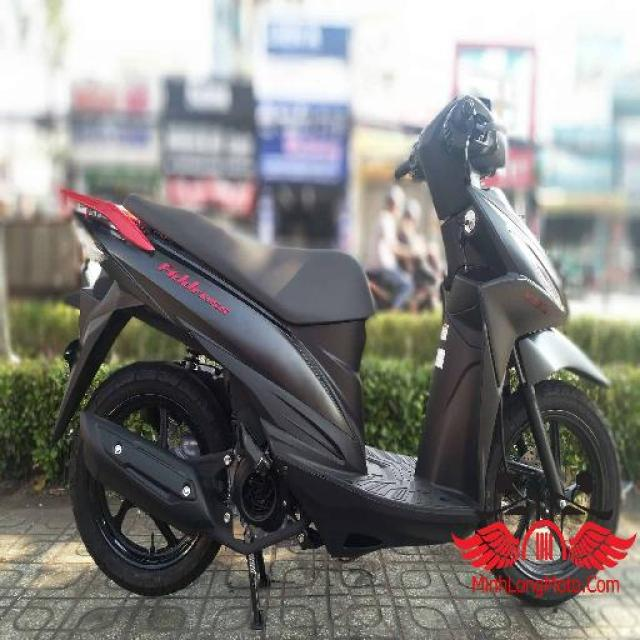All: (43, 90, 618, 634)
Head: (393, 98, 514, 182)
Tail: (58, 183, 145, 267)
